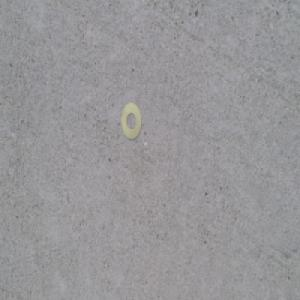Washer: (122, 103, 142, 142)
